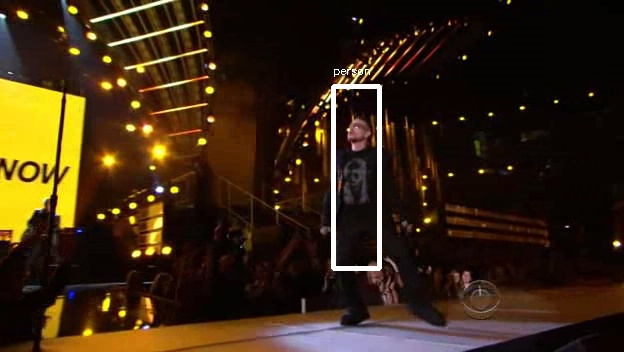person: (327, 118, 396, 235), (324, 118, 393, 235), (330, 118, 399, 235), (327, 115, 396, 232), (327, 121, 396, 238)
target_negative: (578, 22, 607, 311), (383, 257, 535, 304), (306, 277, 436, 321), (74, 5, 154, 72), (471, 109, 520, 199), (382, 272, 510, 303)
